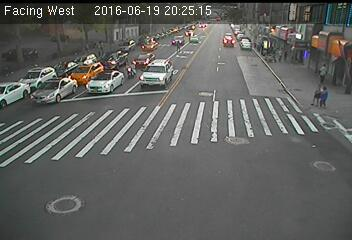neg: (228, 49, 249, 78), (113, 124, 130, 146), (123, 56, 138, 76), (167, 104, 182, 124), (172, 38, 185, 55), (206, 57, 216, 71)
pos: (314, 61, 331, 84), (316, 84, 333, 106), (309, 84, 323, 104), (280, 46, 291, 61), (275, 48, 286, 62)
